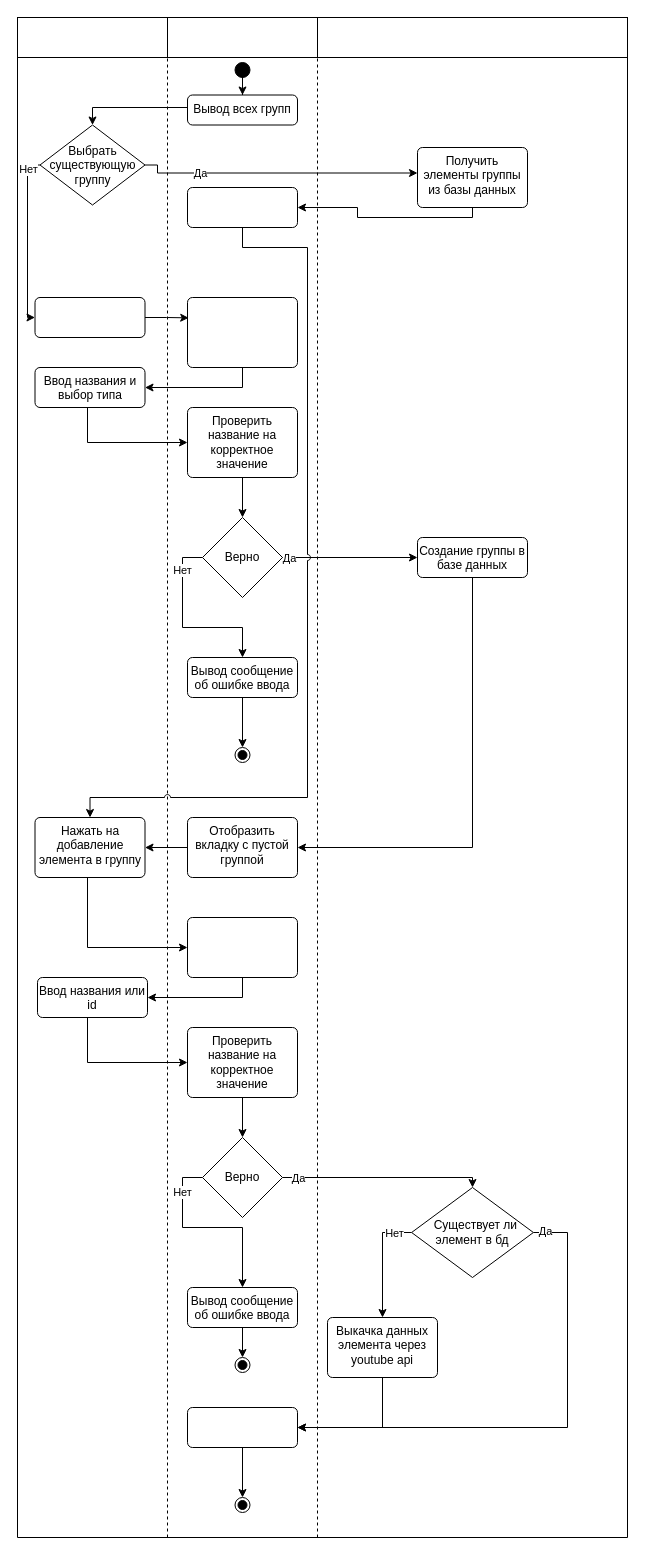
Some shapes in this 646 by 1556 pixel diagram are drawn without their labels. Each missing label, with the box of its shape:
Вывод формы с вводом названия группы и выбора типа: (186, 296, 298, 368)
Вывод формы с вводом названия или id элемента: (186, 916, 298, 978)
Нажать на создание группы: (34, 296, 145, 338)
Отобразить элемент в группе: (186, 1406, 298, 1448)
Отобразить элементы группы: (186, 186, 298, 228)
Пользователь: (16, 16, 168, 58)
Сайт: (166, 16, 318, 58)
Сервер: (316, 16, 628, 58)
